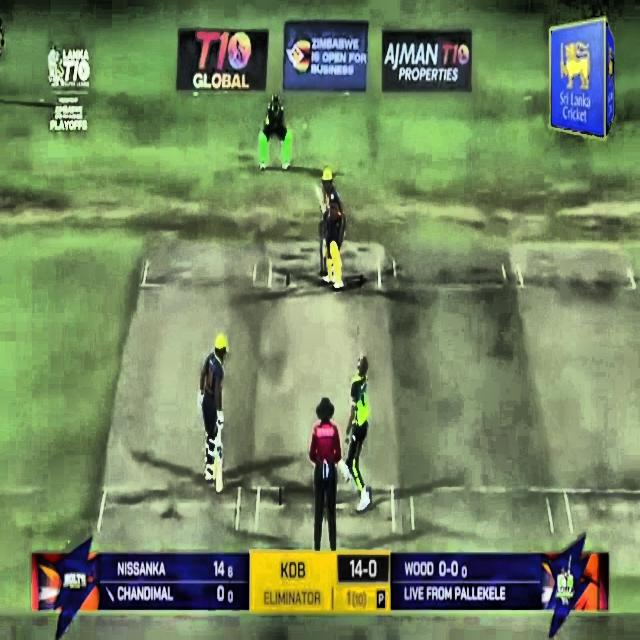Left-stump: (320, 223, 322, 274)
Middle-stump: (324, 223, 327, 275)
